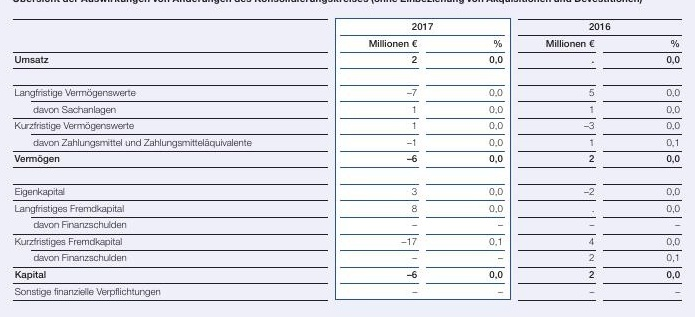table: (0, 0, 695, 317)
